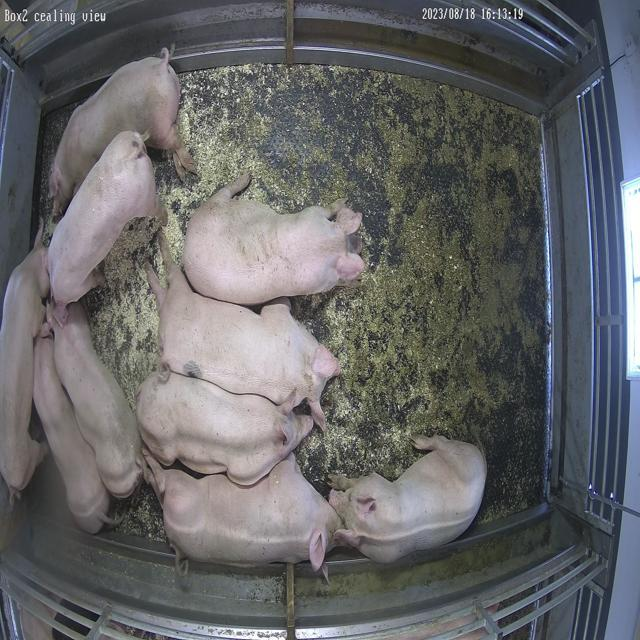Dirt: (235, 65, 548, 522)
Pig: (151, 256, 341, 430), (49, 48, 192, 216), (183, 174, 365, 306), (146, 454, 342, 572), (136, 371, 314, 486), (330, 437, 488, 564), (47, 131, 156, 306), (50, 303, 141, 498), (33, 325, 109, 534), (0, 231, 49, 496)
